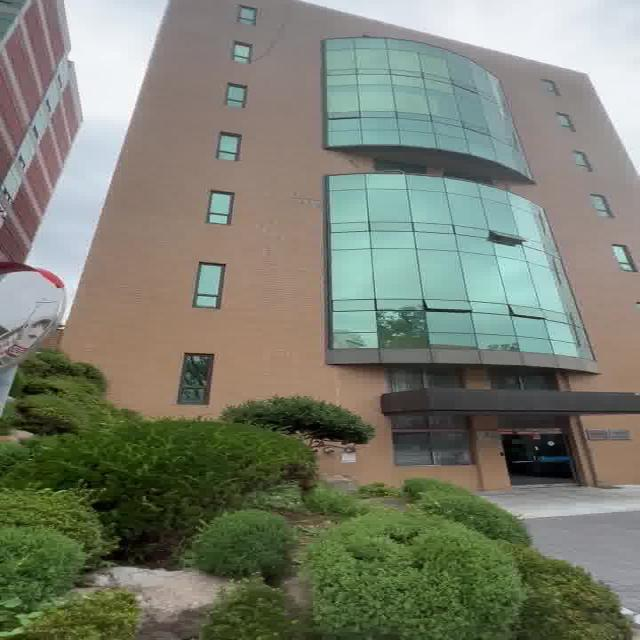building: (124, 20, 640, 400)
